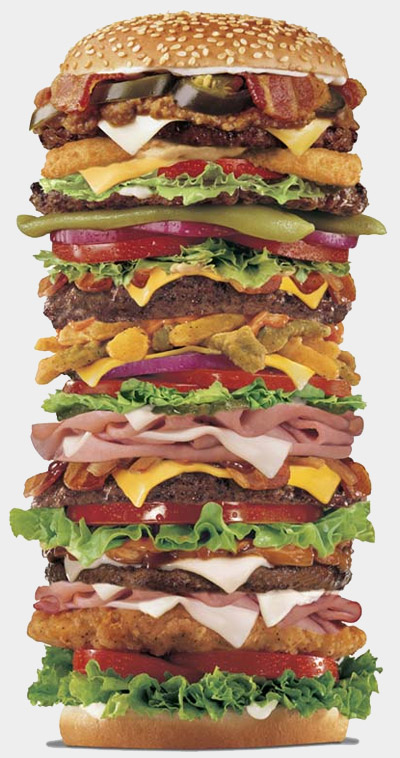hamburger: (31, 12, 384, 758)
